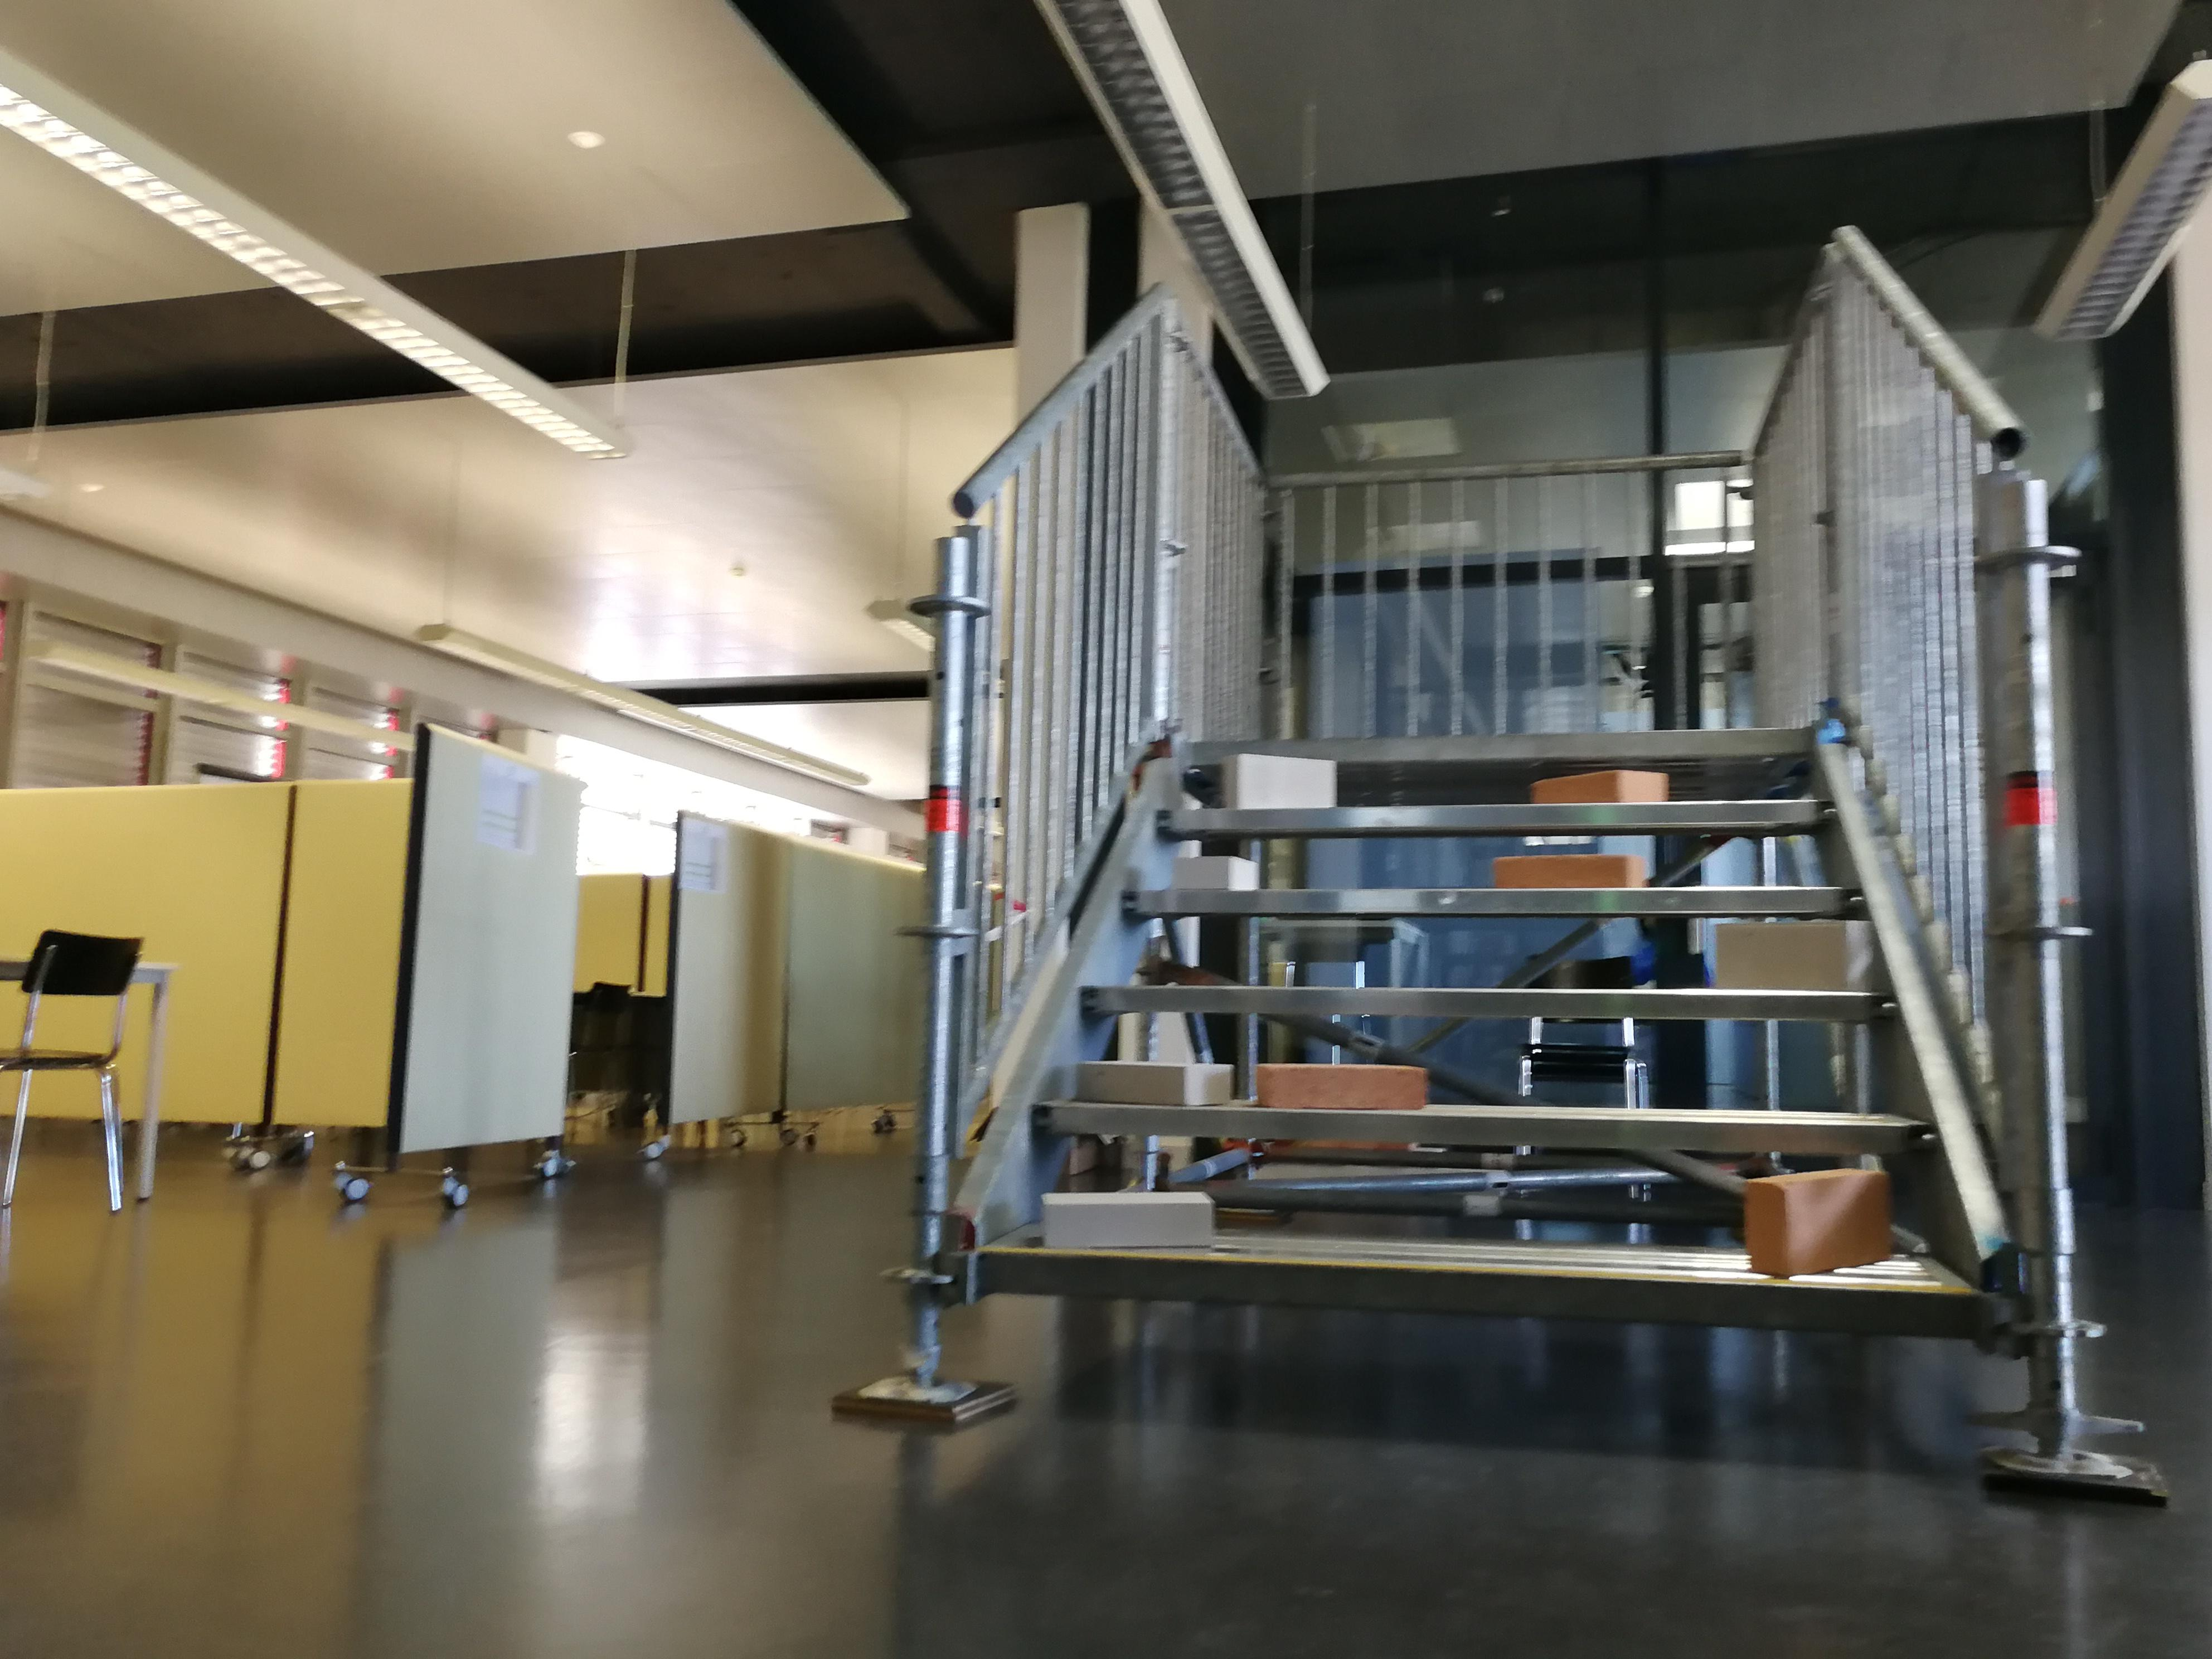brick: (1747, 1171, 1888, 1272), (1717, 922, 1874, 993), (1043, 1192, 1212, 1246), (1256, 1061, 1425, 1112), (1083, 1061, 1231, 1105), (1224, 755, 1332, 807), (1491, 850, 1642, 887), (1534, 772, 1663, 802), (1169, 852, 1256, 890)
edge: (974, 1243, 1979, 1375), (1029, 1100, 1933, 1168), (1080, 986, 1897, 1025), (1193, 725, 1808, 762), (1123, 885, 1864, 915), (1155, 798, 1836, 829)
stairs: (834, 228, 2174, 1514)
steps: (956, 714, 1993, 1396)
